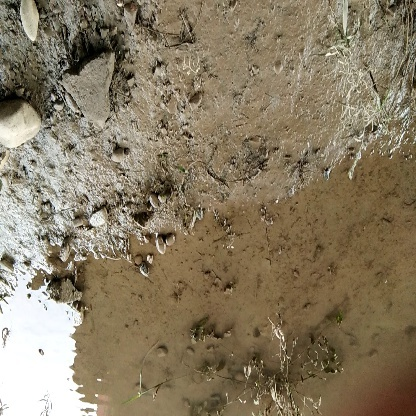grass: (242, 352, 320, 416)
